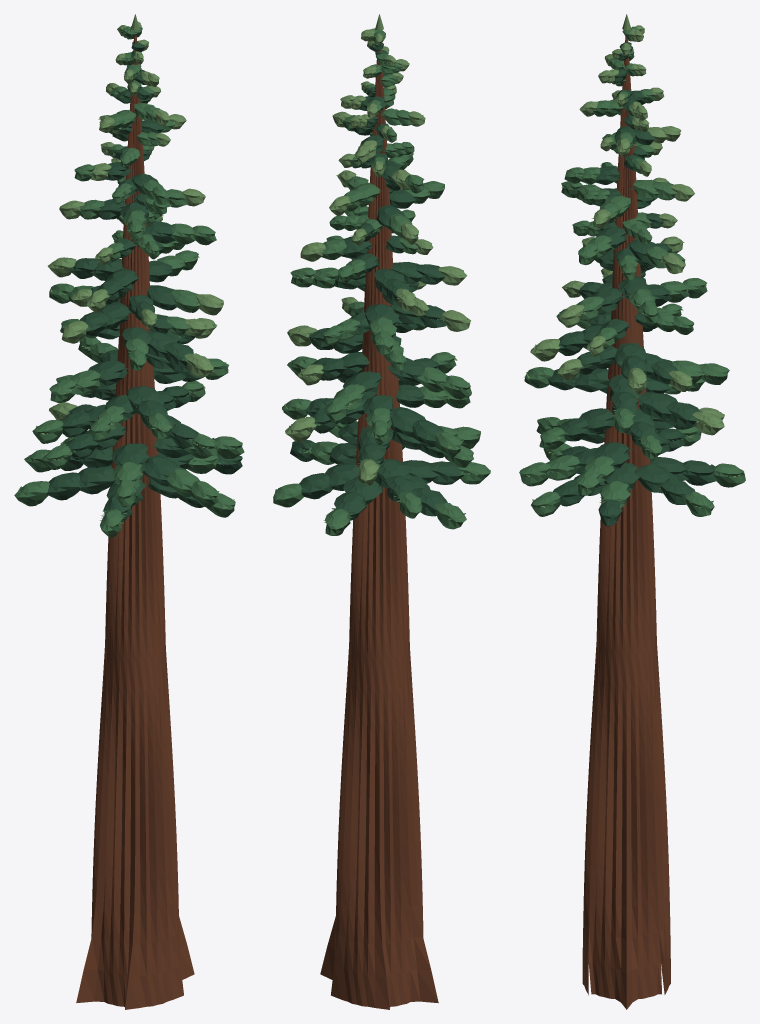
Rendered from giant_redwood.glb.
3 views of the same model, side by side, from view 1: azimuth 30°, elevation 25°; view 2: azimuth 150°, elevation 25°; view 3: azimuth 270°, elevation 25° (orthographic).
Visible parts, largest first — view 1: giant_redwood; view 2: giant_redwood; view 3: giant_redwood.
Boxes of the visible parts, <box> form: giant_redwood: <box>14,14,244,1009</box>; giant_redwood: <box>273,14,490,1009</box>; giant_redwood: <box>519,14,745,1009</box>.
Size of the model in its own units: 22.81 by 106 by 22.58.
